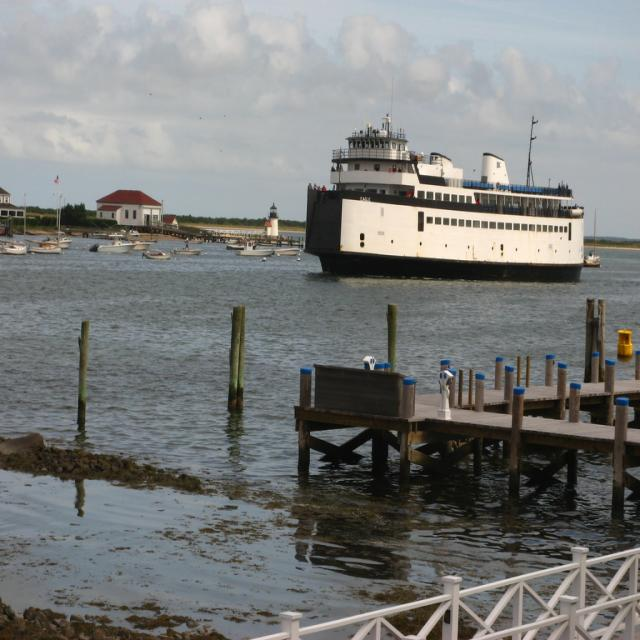Boat: (295, 91, 596, 272), (95, 226, 138, 258), (273, 236, 305, 262), (244, 238, 276, 262), (34, 227, 73, 246), (27, 233, 65, 251), (0, 235, 25, 258), (227, 230, 246, 256), (284, 233, 310, 252), (144, 246, 169, 264), (120, 224, 136, 247), (175, 244, 202, 257), (84, 227, 108, 241), (586, 253, 604, 269), (214, 227, 227, 244)
